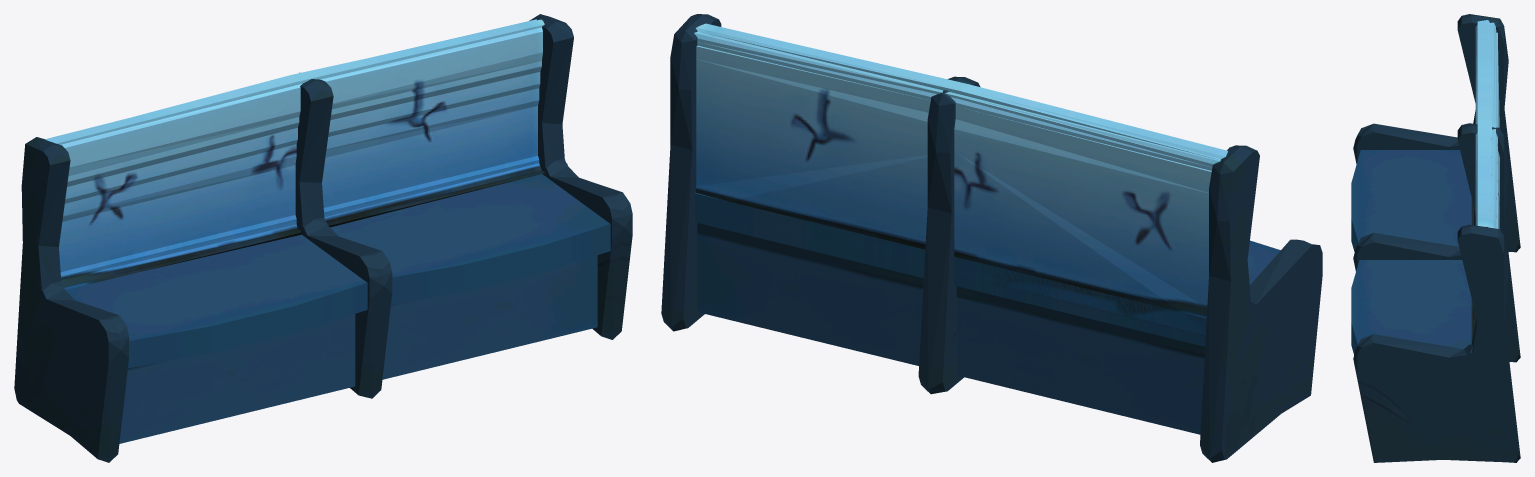
The model's file is Sofa.glb.
The picture shows the model from 3 angles, left to right: view 1: azimuth 30°, elevation 25°; view 2: azimuth 150°, elevation 25°; view 3: azimuth 270°, elevation 25°; orthographic projection. The views are drawn at different scales.
Parts seen in each view (by area): view 1: Sofa; view 2: Sofa; view 3: Sofa.
Boxes of the visible parts, left/top/right/bottom form: Sofa: left=14, top=14, right=632, bottom=462; Sofa: left=661, top=14, right=1322, bottom=462; Sofa: left=1351, top=14, right=1520, bottom=462.
Bounding box in the file's own units: 138 × 69.61 × 45.13.
Materials: 1 (1 with a texture image).
